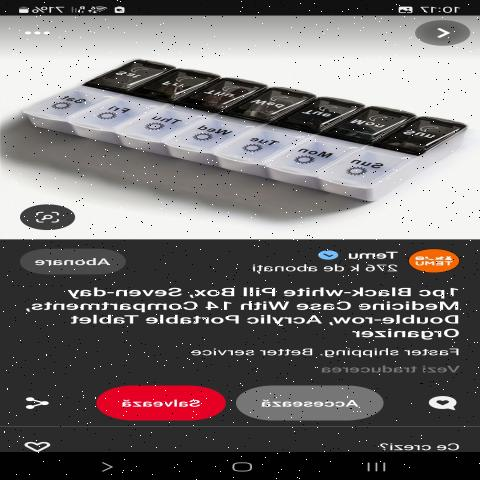Pill-box: (10, 52, 464, 205)
